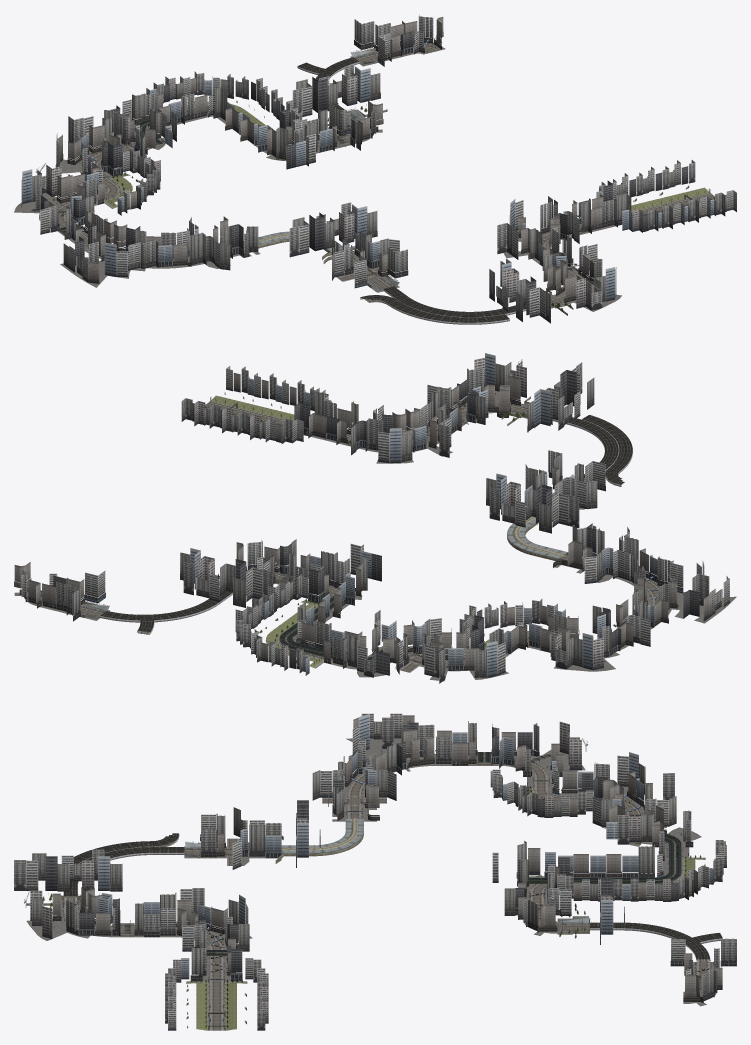
File: terrain_retextured.glb
The picture shows the model from 3 angles, top to bottom: view 1: azimuth 30°, elevation 25°; view 2: azimuth 150°, elevation 25°; view 3: azimuth 270°, elevation 25°; orthographic projection. The views are drawn at different scales.
Parts seen in each view (by area): view 1: nocol_0, terrain_1; view 2: nocol_0, terrain_1; view 3: nocol_0, terrain_1.
Boxes of the visible parts, left/top/right/bottom form: nocol_0: left=21, top=14, right=736, bottom=324; terrain_1: left=14, top=113, right=714, bottom=324; nocol_0: left=14, top=353, right=729, bottom=683; terrain_1: left=205, top=388, right=736, bottom=671; nocol_0: left=14, top=713, right=736, bottom=1030; terrain_1: left=26, top=738, right=593, bottom=1030.
Size of the model in its own units: 816 by 53.3 by 849.
4 materials, 4 textured.
